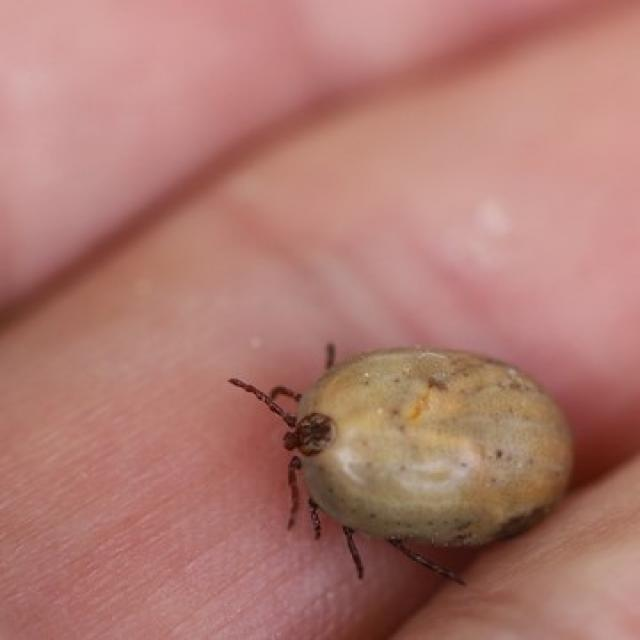Dermacentor Reticulatus-F-Fed: (231, 341, 574, 585)
